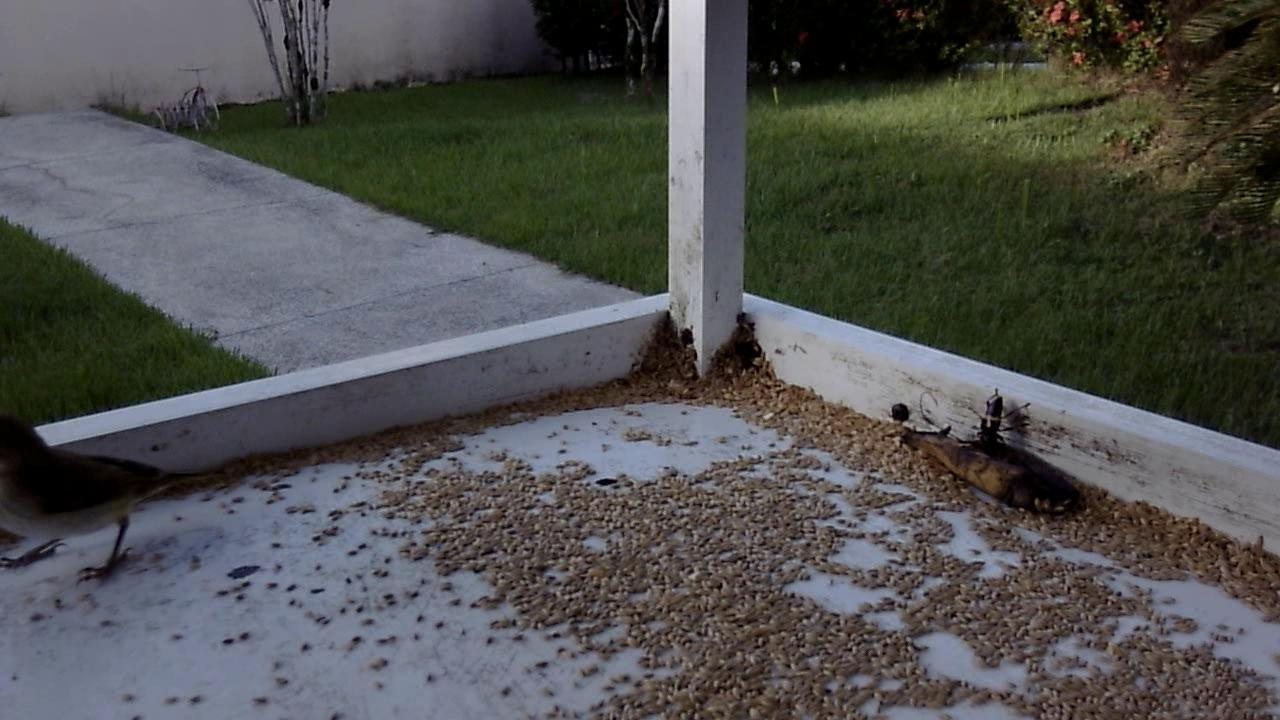canario_do_amazonas: (1, 397, 225, 587)
